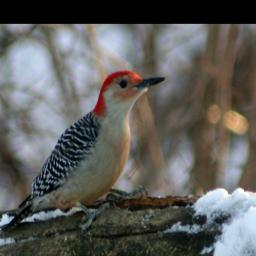Woodpecker: (3, 70, 168, 231)
